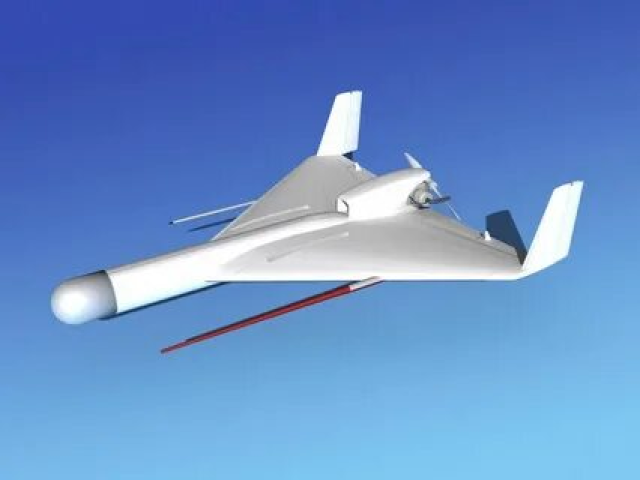military drone: (50, 90, 585, 353)
